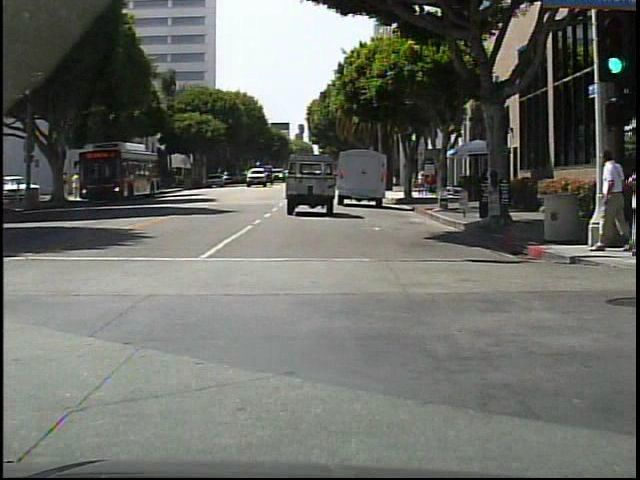person: (588, 149, 631, 252), (73, 171, 83, 200), (63, 171, 73, 200), (418, 171, 428, 198), (413, 168, 421, 198)
